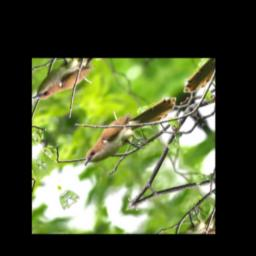Cuckoo: (74, 81, 189, 184)
